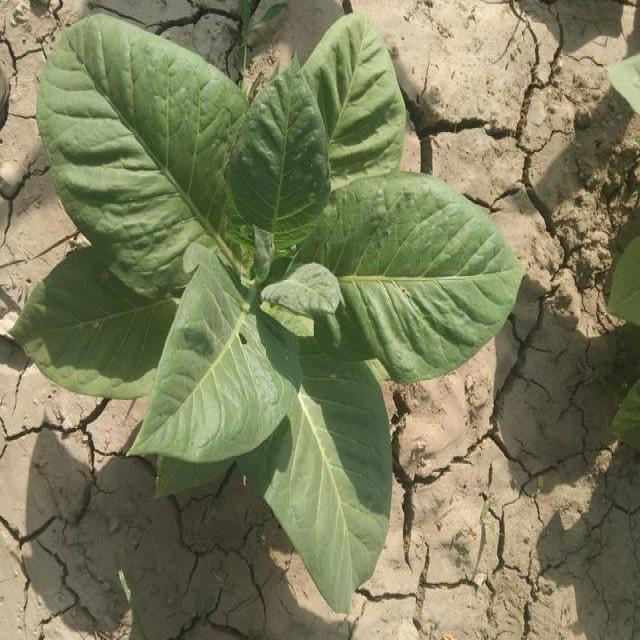crop: (36, 15, 514, 585), (602, 228, 640, 338), (607, 26, 640, 119), (616, 378, 640, 463)
